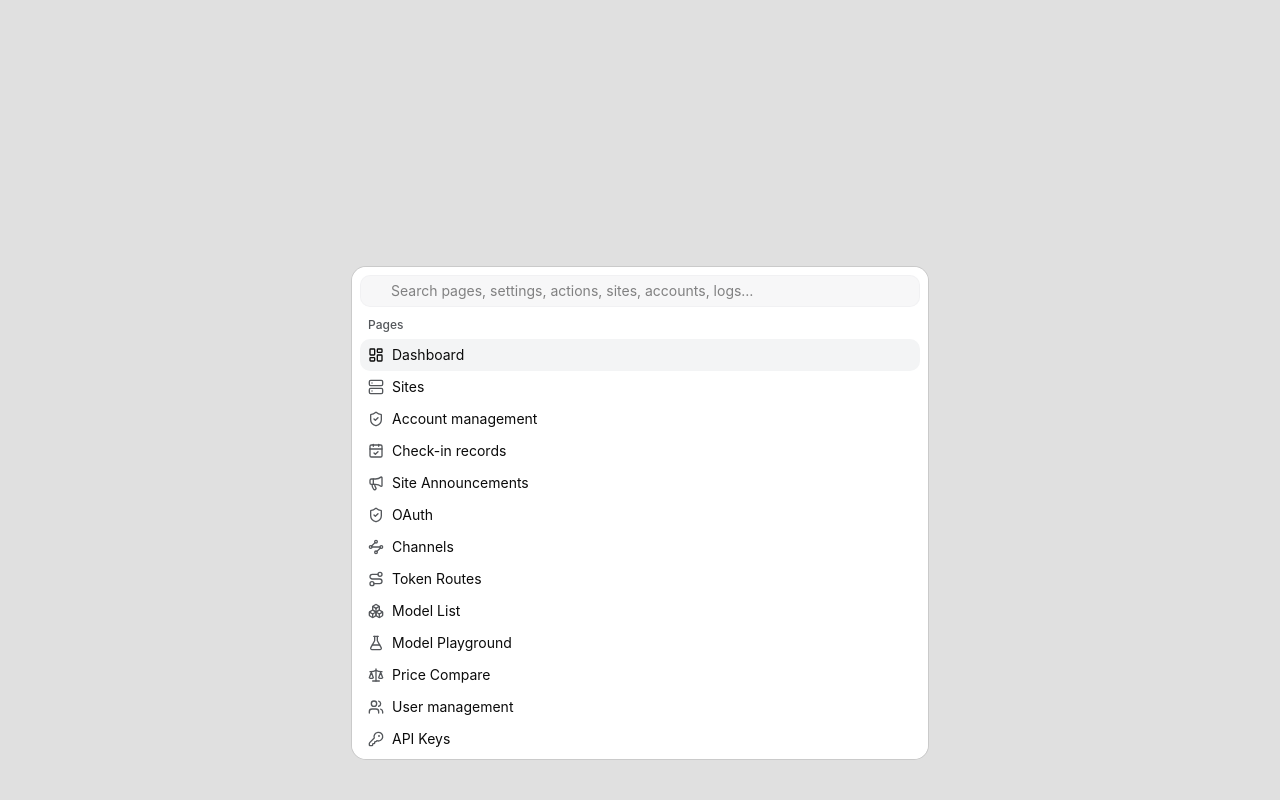
search palette navigation layer › matches settings sections locally while typing
Step 1. Type "schedul" into the dropdown with placeholder "Search pages, settings, actions, sites, accounts, logs…" → (652, 291), box [385,281,919,301]
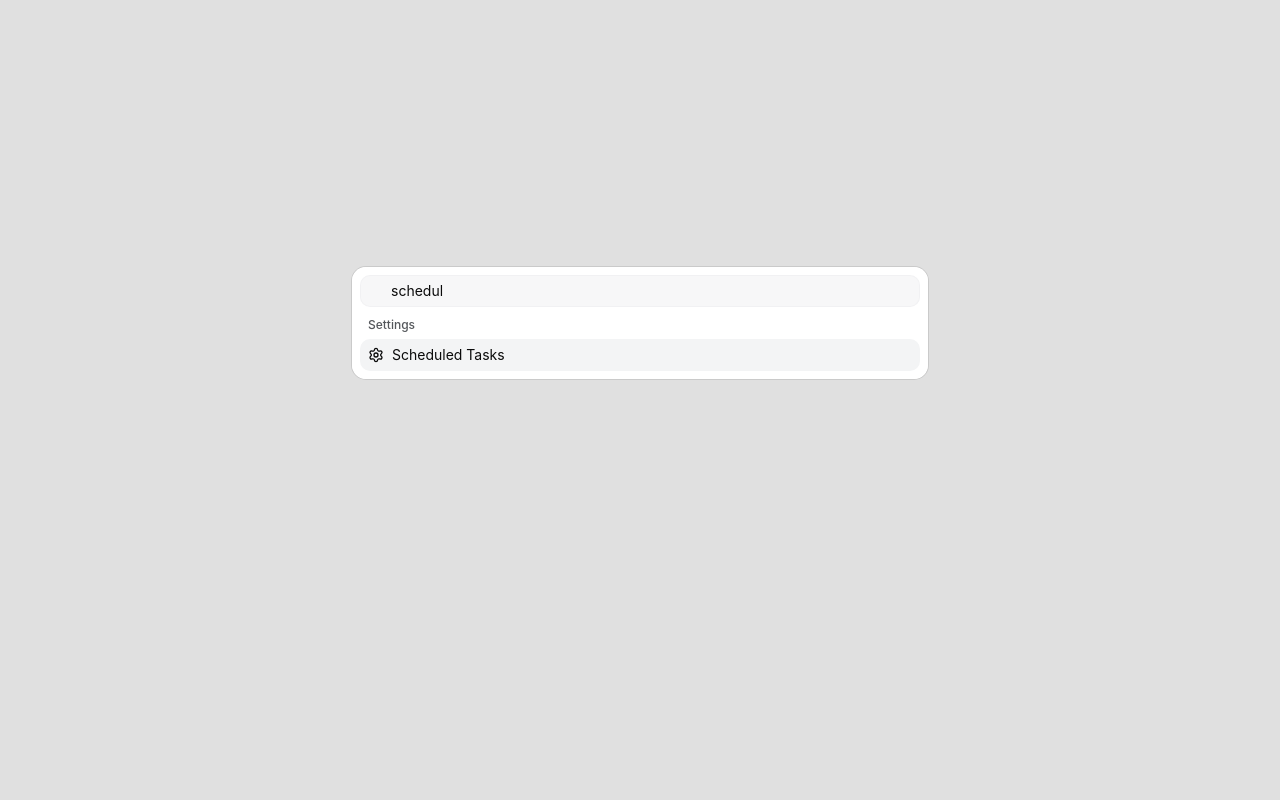
Expected: the text "Scheduled Tasks" is shown, [392,346,505,363]
